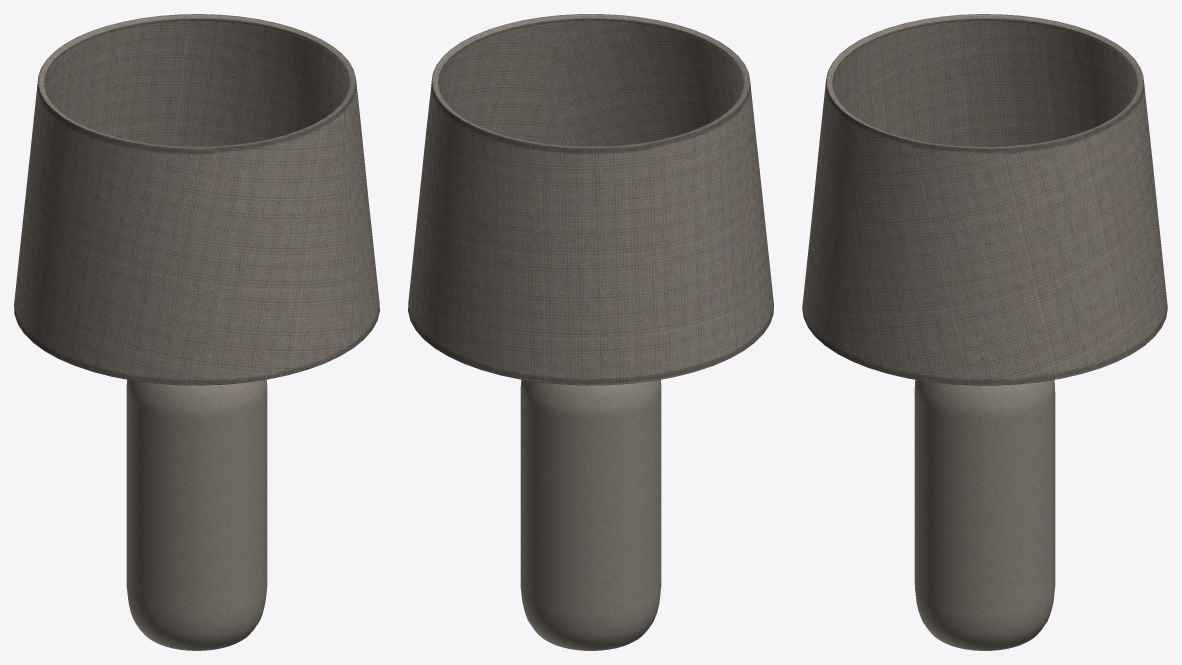
The model's file is abo-B075X1T517.glb.
The picture shows the model from 3 angles, left to right: view 1: azimuth 30°, elevation 25°; view 2: azimuth 150°, elevation 25°; view 3: azimuth 270°, elevation 25°; orthographic projection.
Bounding box in the file's own units: 0.367 × 0.609 × 0.367.
Materials: 1 (1 with a texture image).
